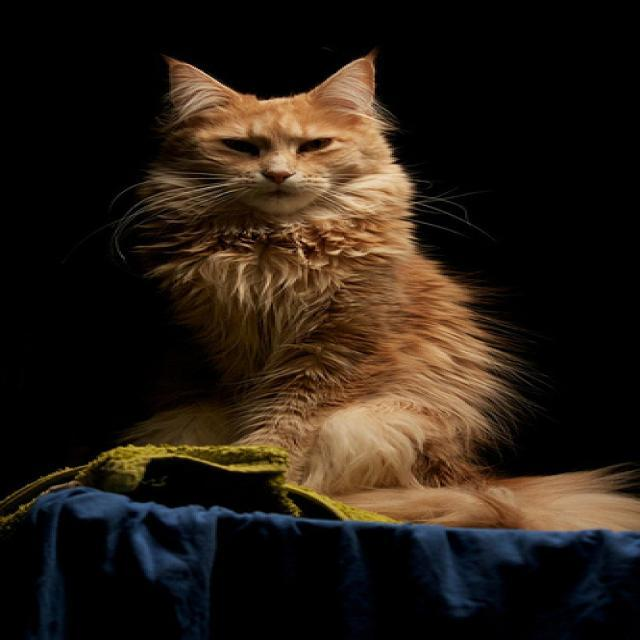Maine_Coon: (167, 53, 371, 211)
